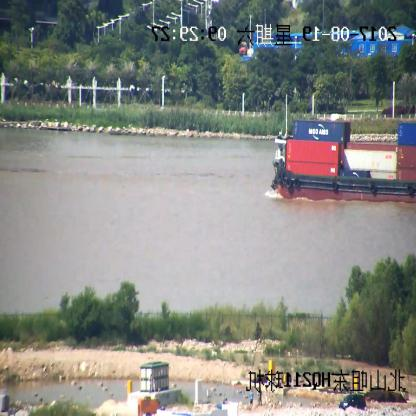Container Ship: (270, 98, 416, 202)
